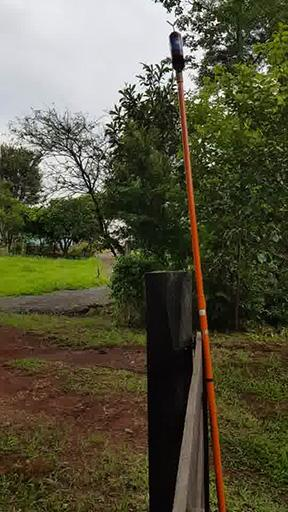Detector_Tensao_Contato: (165, 17, 186, 72)
Vara_Manobra: (174, 71, 225, 510)
